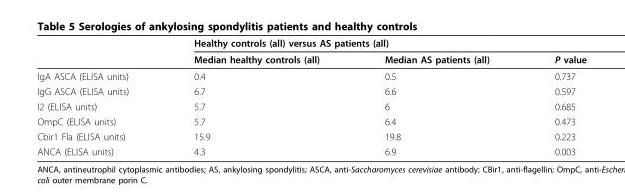table: (36, 36, 585, 156)
table column: (160, 36, 351, 156), (351, 36, 521, 156), (36, 36, 160, 156), (521, 36, 585, 156)
table column header: (36, 36, 585, 67)
table row: (36, 50, 585, 67), (36, 67, 585, 83), (36, 83, 585, 98), (36, 98, 585, 113), (36, 113, 585, 128), (36, 128, 585, 143), (36, 36, 585, 50), (36, 143, 585, 156)
table spanning cell: (160, 36, 585, 50)
